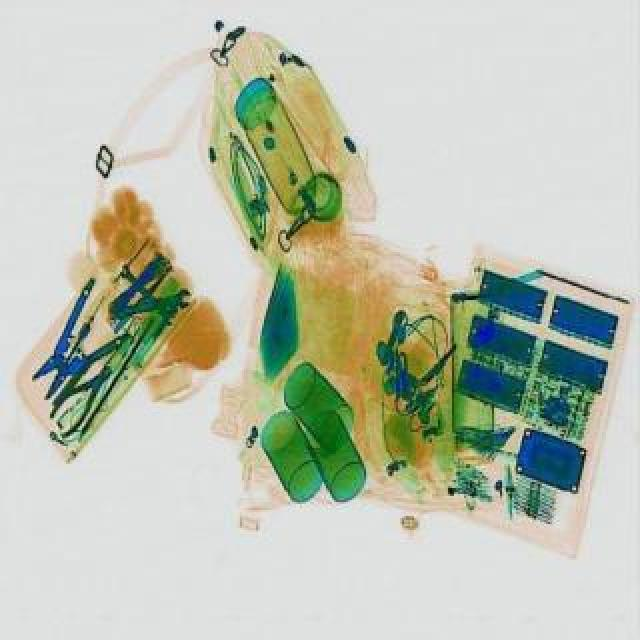scissors: (114, 262, 178, 326), (112, 286, 194, 322)
wrench: (6, 276, 144, 410), (38, 356, 126, 436)
